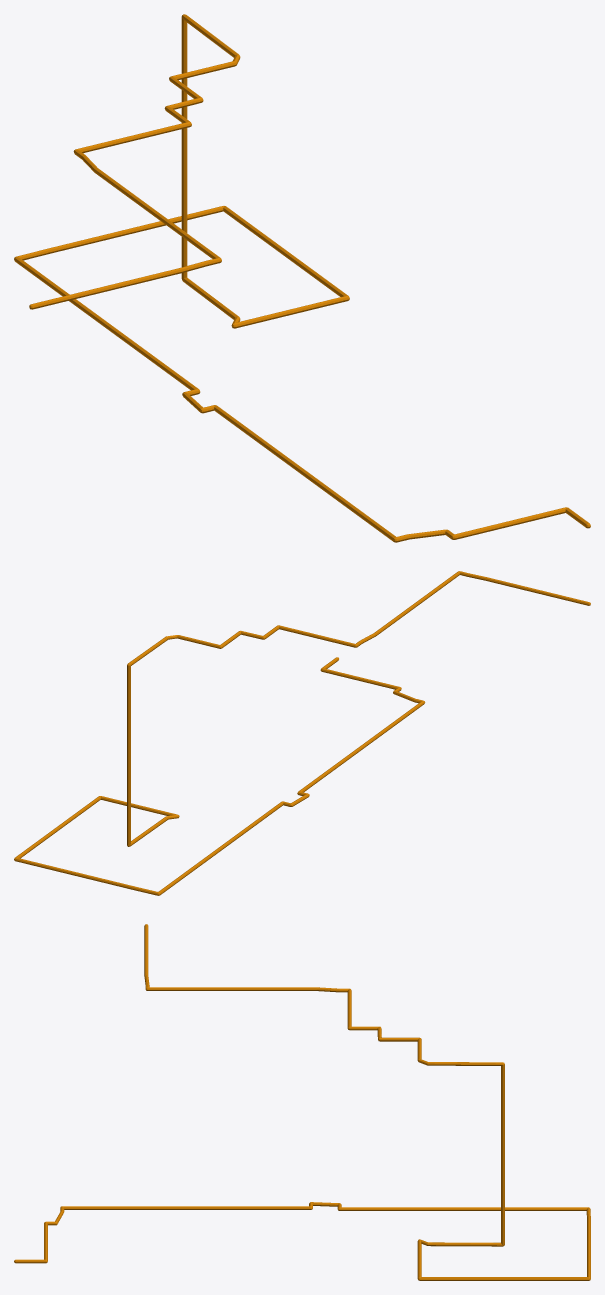
The picture shows the model from 3 angles, top to bottom: view 1: azimuth 30°, elevation 25°; view 2: azimuth 150°, elevation 25°; view 3: azimuth 270°, elevation 25°; orthographic projection. The views are drawn at different scales.
Size of the model in its own units: 2071 by 1020 by 2898.
